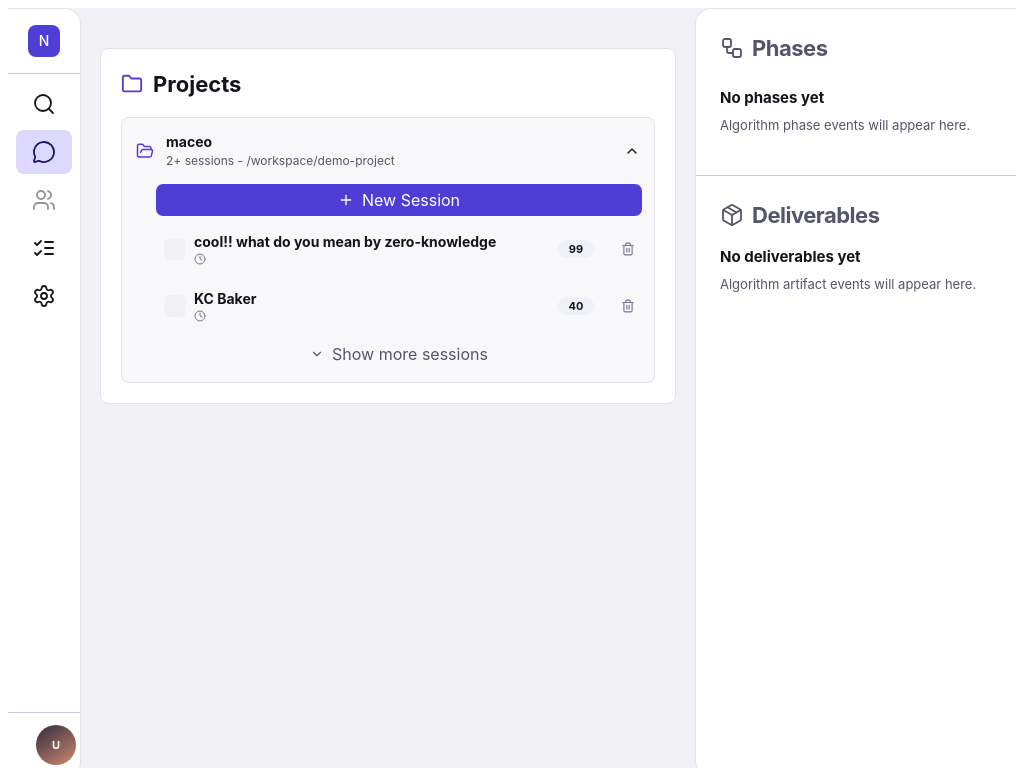
Test: NolmeAppRoute › sends user messages to the LLM through the chat websocket
The width and height of the screenshot is (1024, 768).
Click the button with aria-label "New session for maceo". click: (399, 200)
box: [156, 184, 642, 216]
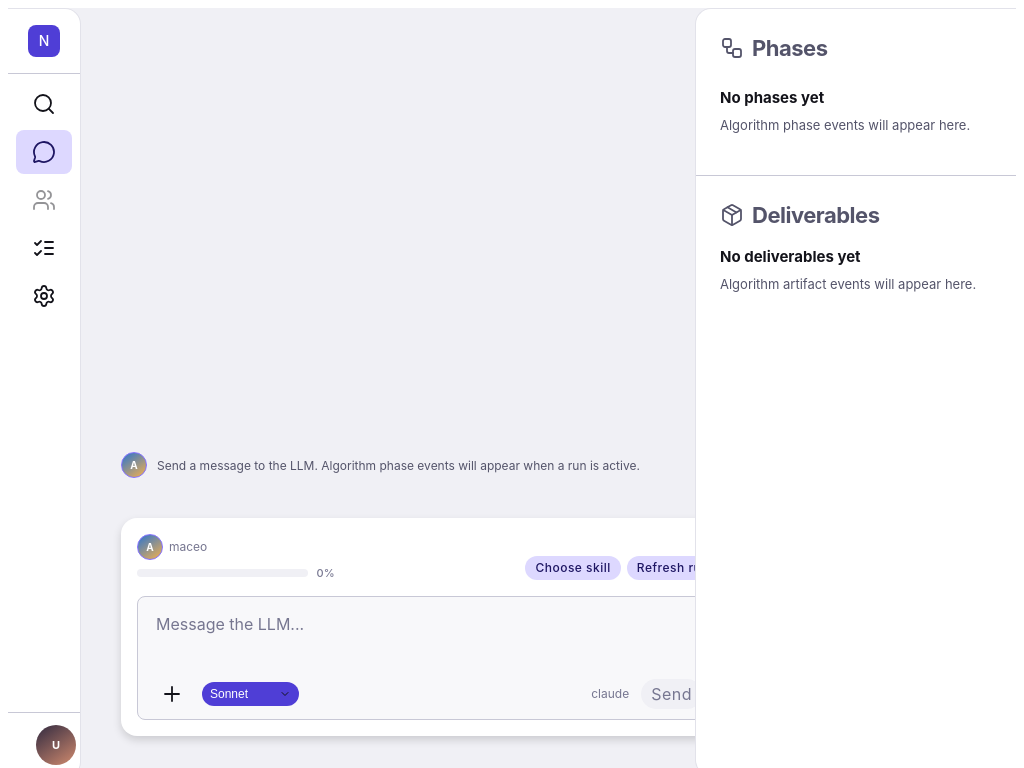
Result: the dropdown named "Claude model" is shown at [202, 682, 299, 706]
Type "Wire /app to live data" into the text box named "Message prompt". click: (430, 637)
box: [154, 609, 706, 665]
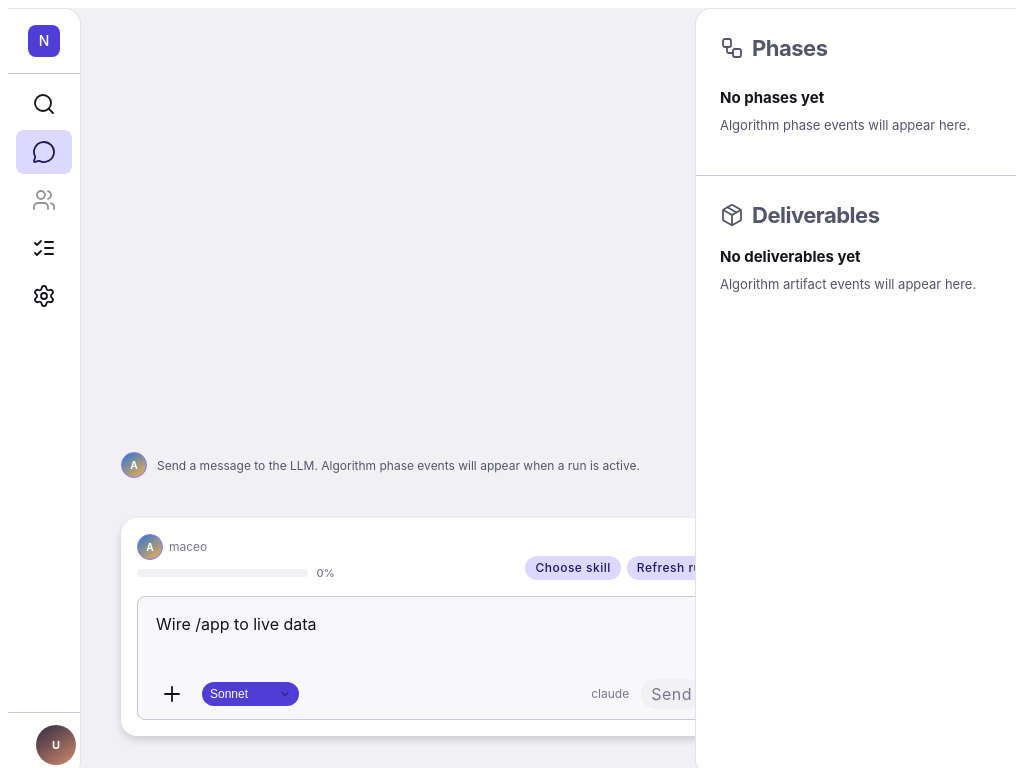
Click the button "Send". click: (672, 694)
box: [641, 679, 702, 709]
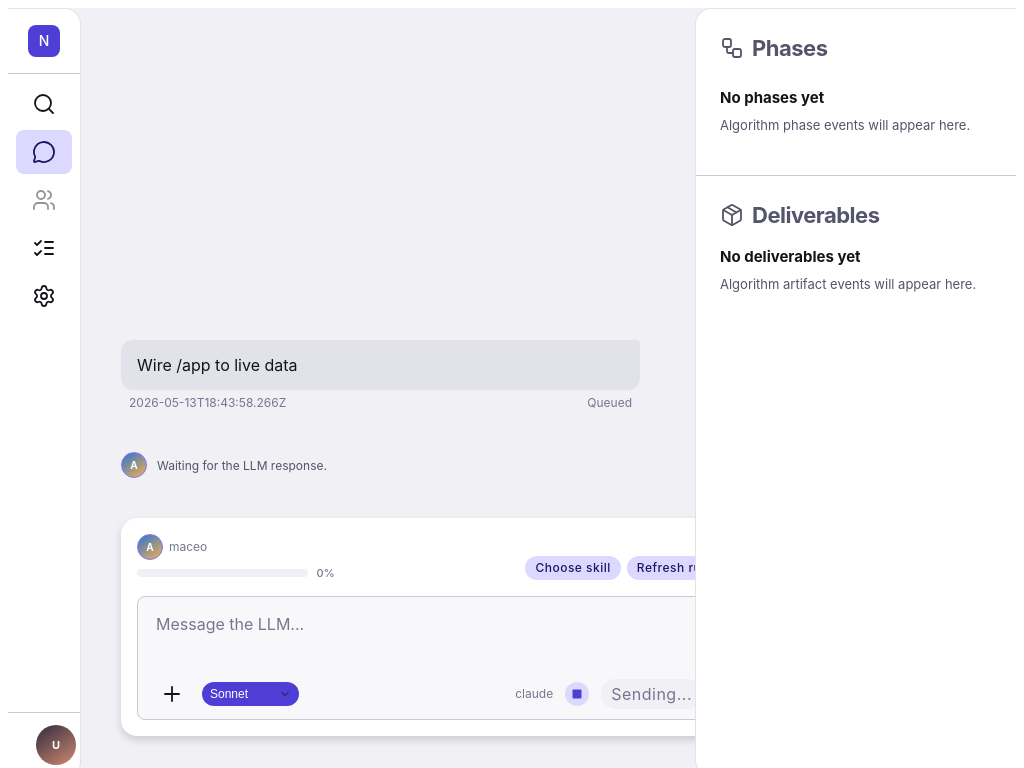
Result: the text "Wire /app to live data" is shown at [121, 340, 640, 390]
